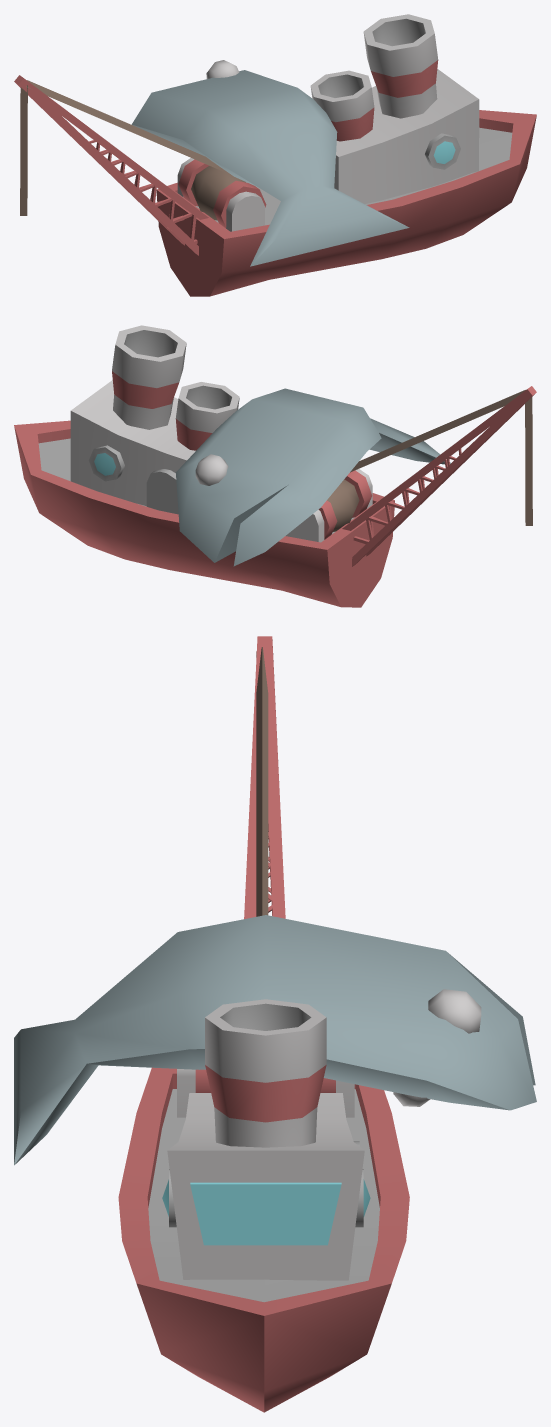
Rendered from boatWithFish.fbx.
3 renders of one model, top to bottom at view 1: azimuth 30°, elevation 25°; view 2: azimuth 150°, elevation 25°; view 3: azimuth 270°, elevation 25°, orthographic. The views are drawn at different scales.
Parts seen in each view (by area): view 1: pCube81, pCube76, pCube77, pCylinder31, pCube79, pCylinder35, pCylinder36, pCylinder34, pCube73, pCylinder37, pCylinder32; view 2: pCube81, pCube76, pCube77, pCylinder31, pCube79, pCylinder35, pCylinder36, pCylinder34, pCube74, pCylinder37, pCylinder33, pCube78; view 3: pCube81, pCube76, pCube77, pCylinder31, pCube75, pCube79, pCylinder34.
Boxes of the visible parts, x1=… form: pCube81: x1=131, y1=60, x2=409, y2=266; pCube76: x1=156, y1=110, x2=536, y2=296; pCube77: x1=334, y1=69, x2=479, y2=203; pCylinder31: x1=363, y1=14, x2=438, y2=118; pCube79: x1=14, y1=75, x2=208, y2=255; pCylinder35: x1=310, y1=70, x2=374, y2=141; pCylinder36: x1=178, y1=159, x2=266, y2=228; pCylinder34: x1=26, y1=80, x2=224, y2=171; pCube73: x1=226, y1=191, x2=264, y2=231; pCylinder37: x1=20, y1=85, x2=27, y2=215; pCylinder32: x1=425, y1=133, x2=460, y2=169; pCube81: x1=176, y1=388, x2=450, y2=566; pCube76: x1=14, y1=420, x2=394, y2=607; pCube77: x1=70, y1=380, x2=195, y2=505; pCylinder31: x1=112, y1=325, x2=186, y2=429; pCube79: x1=342, y1=386, x2=536, y2=566; pCylinder35: x1=175, y1=382, x2=239, y2=450; pCylinder36: x1=318, y1=470, x2=372, y2=539; pCylinder34: x1=350, y1=390, x2=525, y2=472; pCube74: x1=146, y1=469, x2=178, y2=514; pCylinder37: x1=525, y1=397, x2=532, y2=525; pCylinder33: x1=88, y1=445, x2=124, y2=481; pCube78: x1=286, y1=509, x2=324, y2=542; pCube81: x1=14, y1=915, x2=536, y2=1165; pCube76: x1=118, y1=1067, x2=409, y2=1412; pCube77: x1=167, y1=1093, x2=364, y2=1280; pCylinder31: x1=205, y1=999, x2=326, y2=1147; pCube75: x1=190, y1=1182, x2=341, y2=1245; pCube79: x1=244, y1=636, x2=285, y2=918; pCylinder34: x1=256, y1=647, x2=268, y2=916.
Bounding box in the file's own units: 175 × 85.5 × 93.11.
